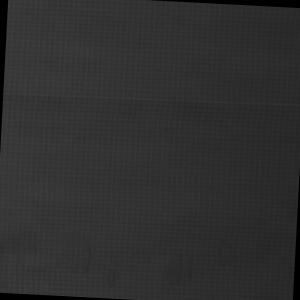Stain: (164, 248, 200, 292), (214, 232, 243, 277), (82, 246, 96, 275), (105, 268, 119, 291)
